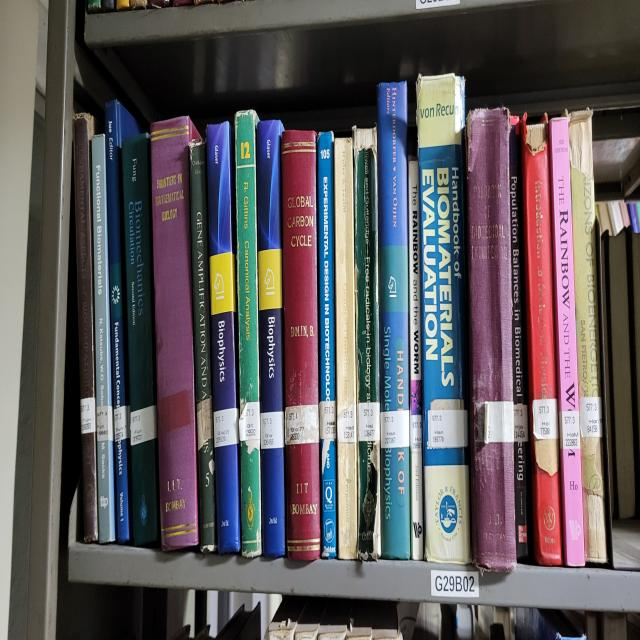Book: (416, 73, 471, 565), (466, 108, 516, 571), (150, 116, 199, 549), (569, 108, 608, 563), (281, 130, 321, 560), (549, 116, 585, 565), (121, 133, 159, 547), (378, 81, 410, 560), (105, 100, 139, 544), (258, 122, 285, 555), (235, 111, 261, 557), (354, 130, 380, 560), (190, 141, 216, 552), (74, 114, 98, 541), (91, 135, 116, 544), (334, 138, 358, 560), (510, 116, 532, 563), (318, 133, 336, 557), (409, 157, 424, 560), (535, 438, 559, 476), (218, 319, 225, 384)
Label: (158, 390, 195, 436), (428, 409, 468, 449), (285, 403, 319, 446), (484, 400, 514, 444), (380, 409, 410, 449), (130, 406, 158, 446), (532, 398, 559, 438), (214, 409, 239, 446), (260, 411, 284, 449), (580, 398, 602, 438), (239, 400, 260, 441), (358, 403, 380, 441), (196, 398, 212, 449), (559, 411, 580, 449), (338, 403, 356, 444), (319, 400, 336, 441), (96, 406, 114, 441), (80, 398, 96, 436), (514, 403, 529, 441), (114, 406, 130, 441), (410, 414, 421, 452)
